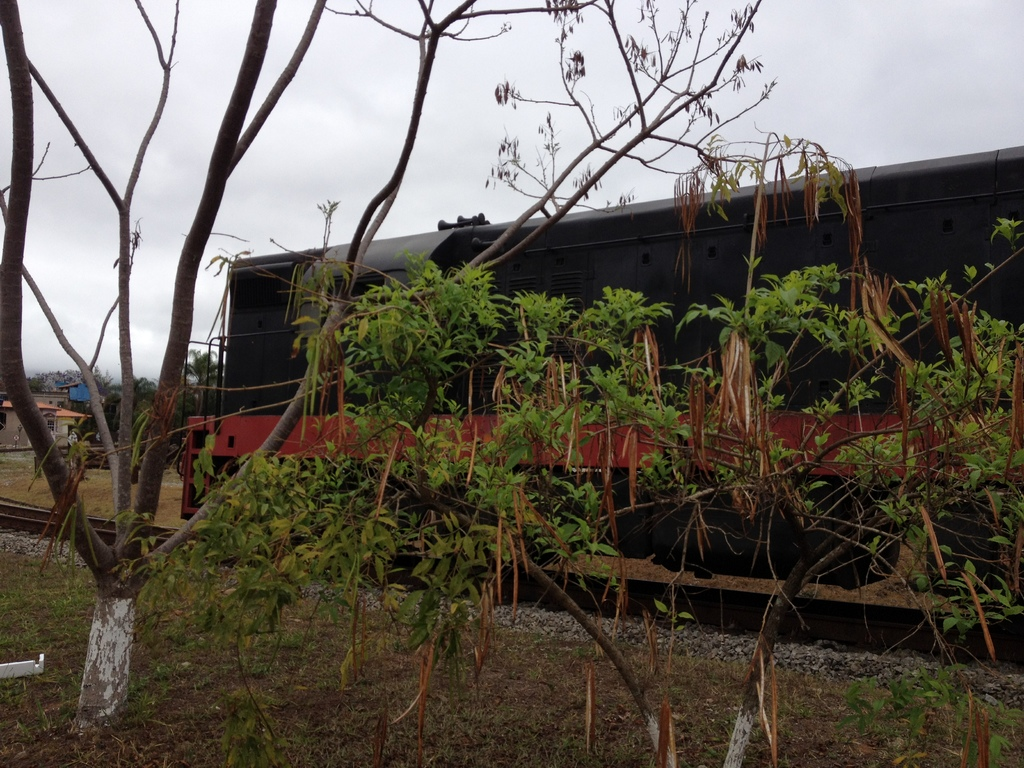Tree: (0, 0, 1024, 677)
